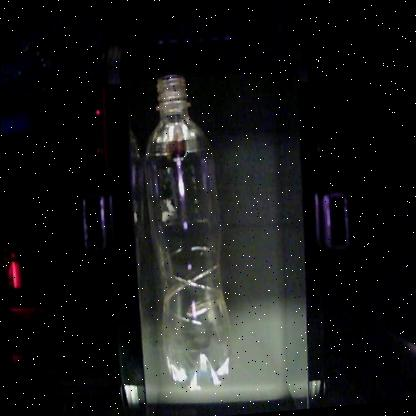Plastic Bottle: (144, 74, 228, 390)
